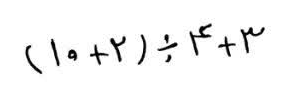character: (187, 21, 214, 57), (155, 32, 180, 66), (238, 26, 266, 55), (22, 43, 44, 76), (88, 43, 111, 67), (108, 35, 127, 64), (216, 34, 238, 58), (136, 32, 149, 67), (48, 37, 62, 69), (66, 48, 79, 63)
